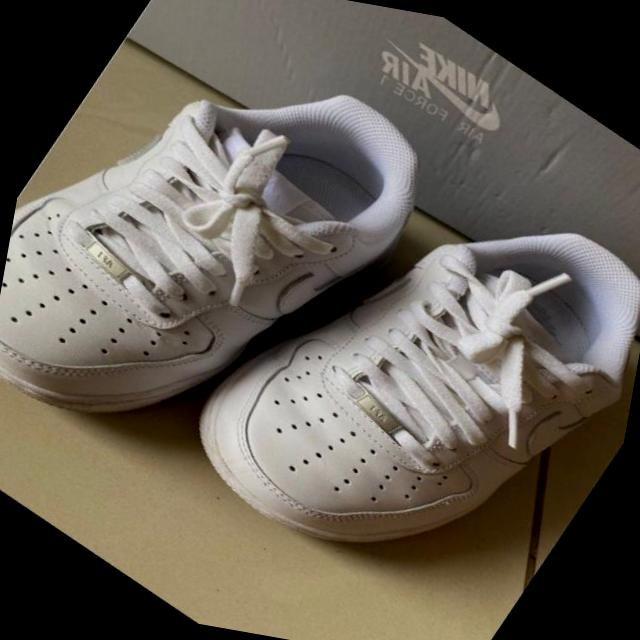nike_original_airforce: (138, 75, 640, 640), (0, 0, 481, 554)
